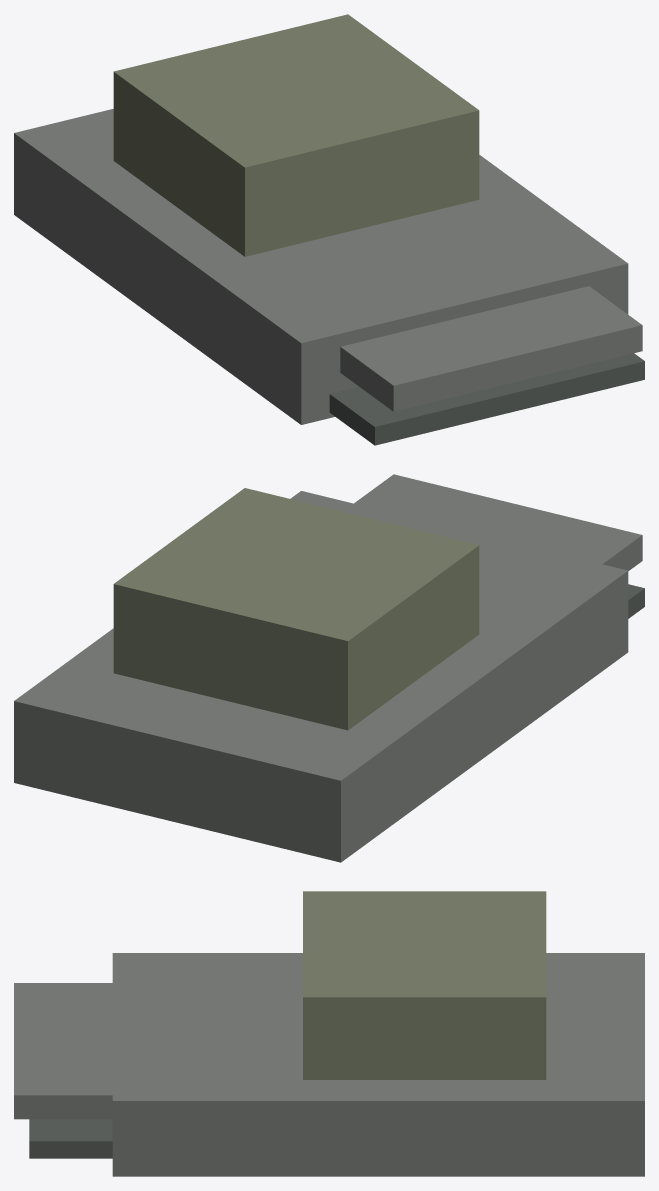
Rendered from landingcraft.glb.
3 renders of one model, top to bottom at view 1: azimuth 30°, elevation 25°; view 2: azimuth 150°, elevation 25°; view 3: azimuth 270°, elevation 25°, orthographic. The views are drawn at different scales.
Parts seen in each view (by area): view 1: p0, p1, p3, p2; view 2: p0, p1, p3; view 3: p0, p1, p3, p2.
Part boxes in pixels (bbox=[...]): p0: bbox=[14, 109, 628, 424]; p1: bbox=[113, 14, 479, 256]; p3: bbox=[340, 286, 642, 411]; p2: bbox=[329, 353, 644, 445]; p0: bbox=[14, 491, 628, 862]; p1: bbox=[113, 488, 479, 730]; p3: bbox=[354, 474, 642, 570]; p0: bbox=[112, 953, 644, 1176]; p1: bbox=[303, 891, 546, 1079]; p3: bbox=[14, 983, 112, 1119]; p2: bbox=[29, 1119, 112, 1158].
Size of the model in its own units: 4.6 by 2.3 by 8.3.
